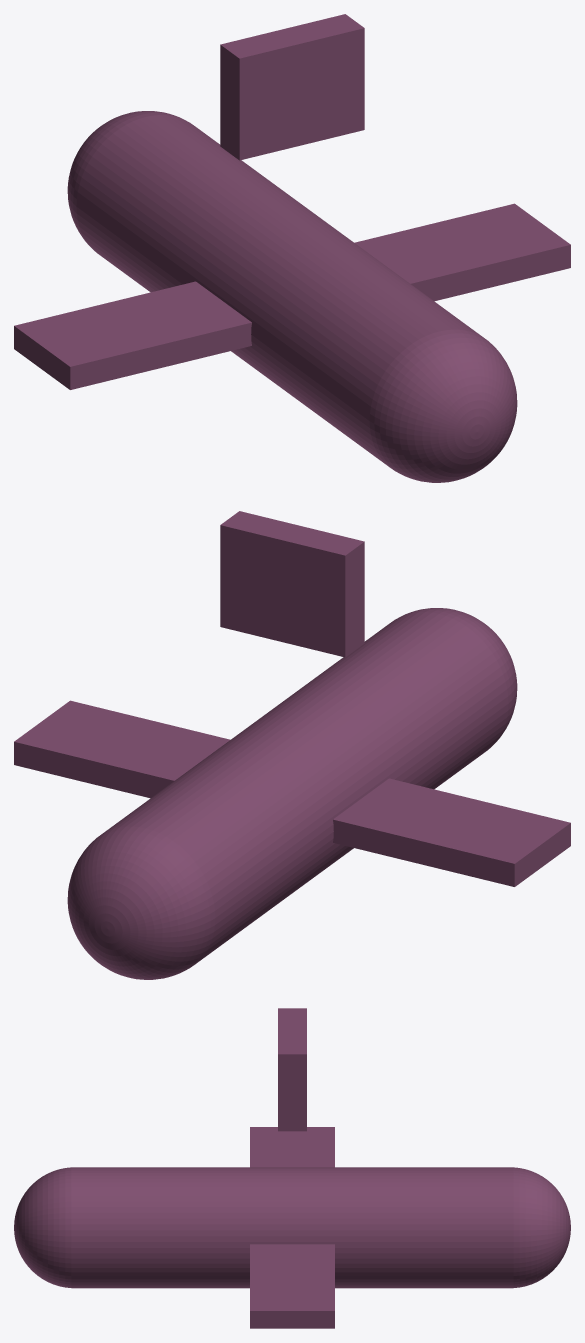
File: sport_095.glb
3 renders of one model, top to bottom at view 1: azimuth 30°, elevation 25°; view 2: azimuth 150°, elevation 25°; view 3: azimuth 270°, elevation 25°, orthographic. The views are drawn at different scales.
Parts seen in each view (by area): view 1: world; view 2: world; view 3: world.
Part boxes in pixels (<box>): world: <box>14,14,570,482</box>; world: <box>14,511,570,979</box>; world: <box>14,1008,570,1328</box>.
Size of the model in its own units: 1.8 by 1.14 by 2.3.
